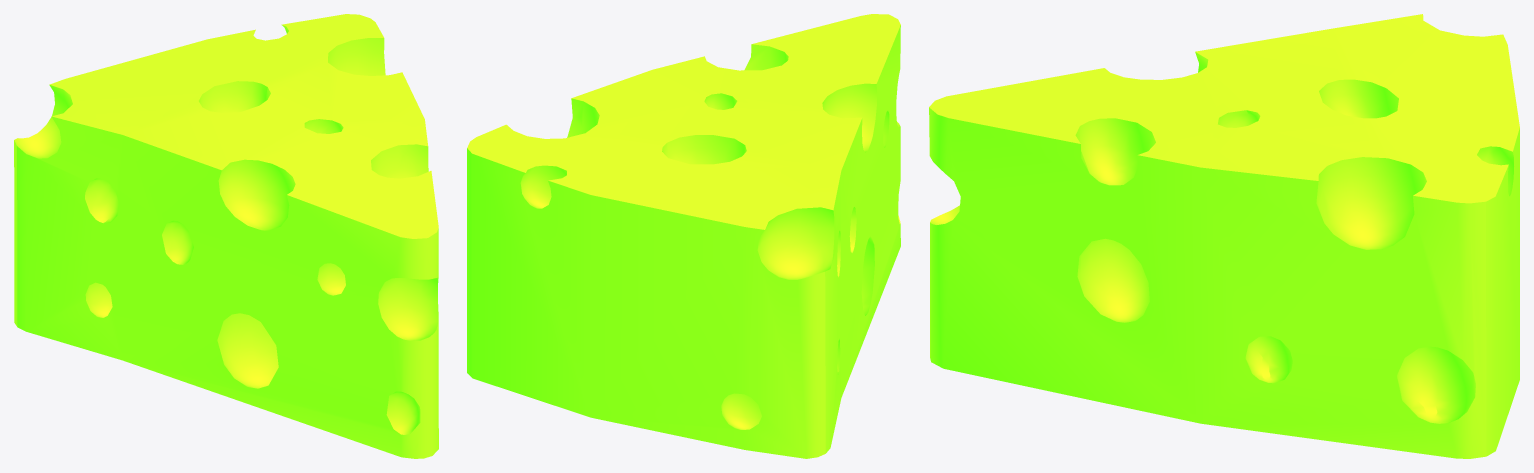
File: cheese-radioactive.glb
3 views of the same model, side by side, from view 1: azimuth 30°, elevation 25°; view 2: azimuth 150°, elevation 25°; view 3: azimuth 270°, elevation 25° (orthographic). The views are drawn at different scales.
Visible parts, largest first — view 1: cheese.002; view 2: cheese.002; view 3: cheese.002.
Boxes of the visible parts, box(x1,y1,x2,y2) form: cheese.002: box(14, 14, 438, 458); cheese.002: box(467, 14, 900, 458); cheese.002: box(929, 14, 1519, 458).
Size of the model in its own units: 157 by 95.9 by 198.
